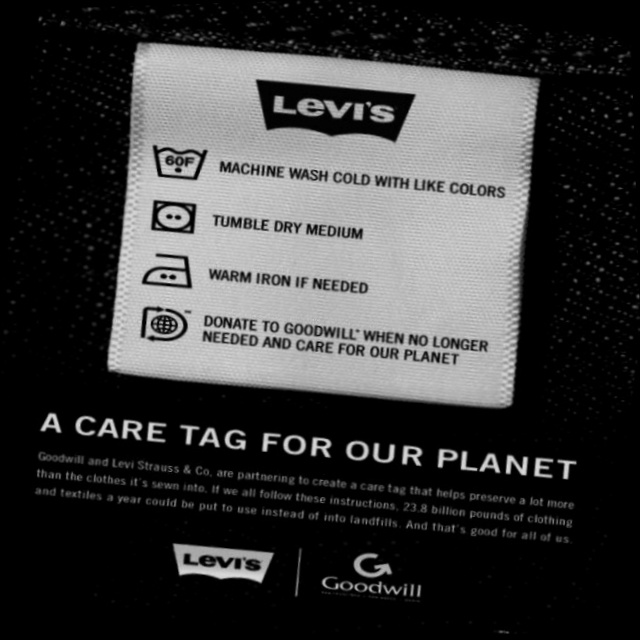30C: (144, 131, 216, 191)
iron_medium: (135, 242, 203, 299)
tumble_dry_medium: (142, 192, 206, 244)
